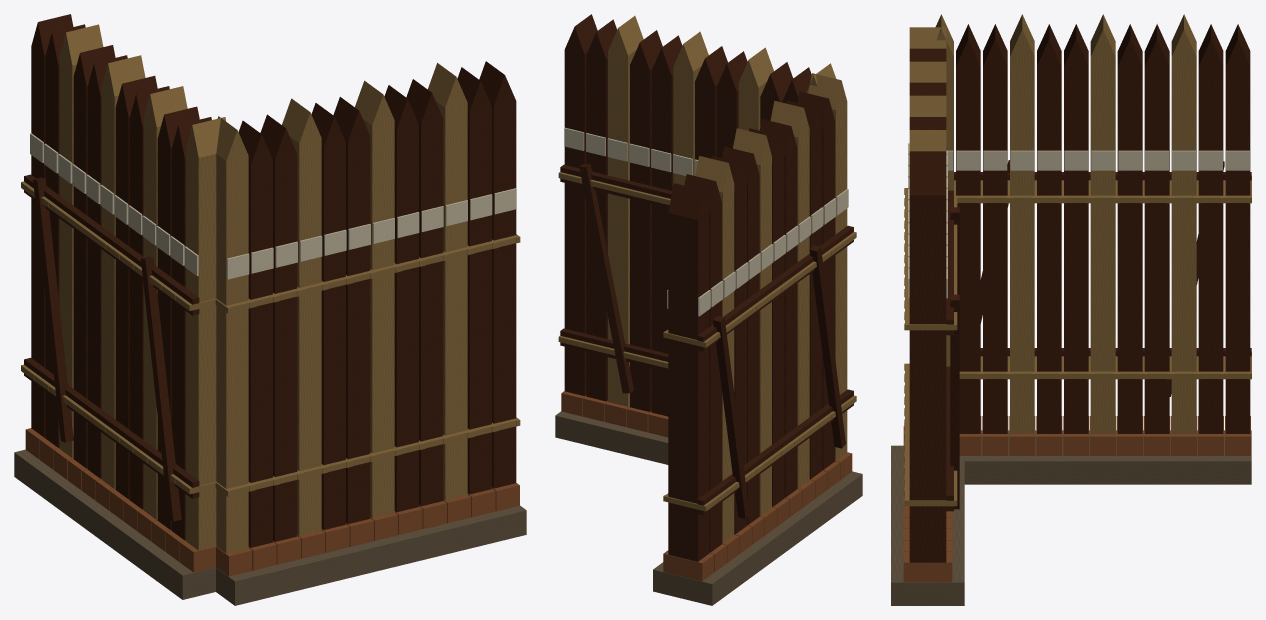
Rendered from Berber_Palisade_Age3_corner_90.fbx.
3 views of the same model, side by side, from view 1: azimuth 30°, elevation 25°; view 2: azimuth 150°, elevation 25°; view 3: azimuth 270°, elevation 25° (orthographic). The views are drawn at different scales.
Parts seen in each view (by area): view 1: palm_split_post.067, palm_split_post.063, palm_split_post.070, palm_split_post.065, palm_split_post.060, earth_seat.009, palm_split_post.069, palm_split_post.072, palm_split_post.066, post_earth_socket.009, neutral_owner_band.009, back_diagonal_brace.009 (+4 smaller); view 2: palm_split_post.070, palm_split_post.067, palm_split_post.065, palm_split_post.063, palm_split_post.072, earth_seat.009, palm_split_post.069, back_diagonal_brace.009, post_earth_socket.009, palm_split_post.066, continuous_rear_tie.009, neutral_owner_band.009 (+3 smaller); view 3: palm_split_post.070, palm_split_post.067, palm_split_post.065, palm_split_post.063, earth_seat.009, palm_split_post.069, palm_split_post.072, palm_split_post.066, post_earth_socket.009, neutral_owner_band.009, front_lashing.009, lashing_side.009 (+4 smaller).
Boxes of the visible parts, bbox=[...] form: palm_split_post.067: bbox=[73, 45, 443, 529]; palm_split_post.063: bbox=[115, 75, 370, 547]; palm_split_post.070: bbox=[31, 14, 516, 512]; palm_split_post.065: bbox=[45, 24, 491, 541]; palm_split_post.060: bbox=[186, 116, 248, 553]; earth_seat.009: bbox=[14, 449, 526, 605]; palm_split_post.069: bbox=[101, 55, 394, 518]; palm_split_post.072: bbox=[59, 24, 467, 500]; palm_split_post.066: bbox=[143, 86, 321, 535]; post_earth_socket.009: bbox=[25, 428, 519, 576]; neutral_owner_band.009: bbox=[30, 133, 516, 279]; back_diagonal_brace.009: bbox=[33, 177, 181, 521]; palm_split_post.070: bbox=[564, 14, 759, 561]; palm_split_post.067: bbox=[630, 30, 797, 534]; palm_split_post.065: bbox=[586, 19, 822, 552]; palm_split_post.063: bbox=[695, 46, 834, 506]; palm_split_post.072: bbox=[608, 16, 734, 543]; earth_seat.009: bbox=[555, 411, 862, 605]; palm_split_post.069: bbox=[673, 31, 771, 515]; back_diagonal_brace.009: bbox=[579, 164, 845, 518]; post_earth_socket.009: bbox=[561, 391, 852, 581]; palm_split_post.066: bbox=[738, 47, 809, 488]; continuous_rear_tie.009: bbox=[560, 164, 853, 515]; neutral_owner_band.009: bbox=[564, 127, 848, 316]; palm_split_post.070: bbox=[909, 24, 1250, 562]; palm_split_post.067: bbox=[909, 24, 1169, 433]; palm_split_post.065: bbox=[909, 24, 1223, 433]; palm_split_post.063: bbox=[909, 24, 1088, 433]; earth_seat.009: bbox=[891, 430, 1251, 605]; palm_split_post.069: bbox=[909, 14, 1115, 433]; palm_split_post.072: bbox=[909, 14, 1196, 433]; palm_split_post.066: bbox=[909, 14, 1034, 433]; post_earth_socket.009: bbox=[903, 416, 1250, 582]; neutral_owner_band.009: bbox=[908, 143, 1249, 298]; front_lashing.009: bbox=[905, 188, 1250, 499]; lashing_side.009: bbox=[904, 176, 1251, 506].
Size of the model in its own units: 334 by 458 by 334.
Materials: 5 (5 with a texture image).
